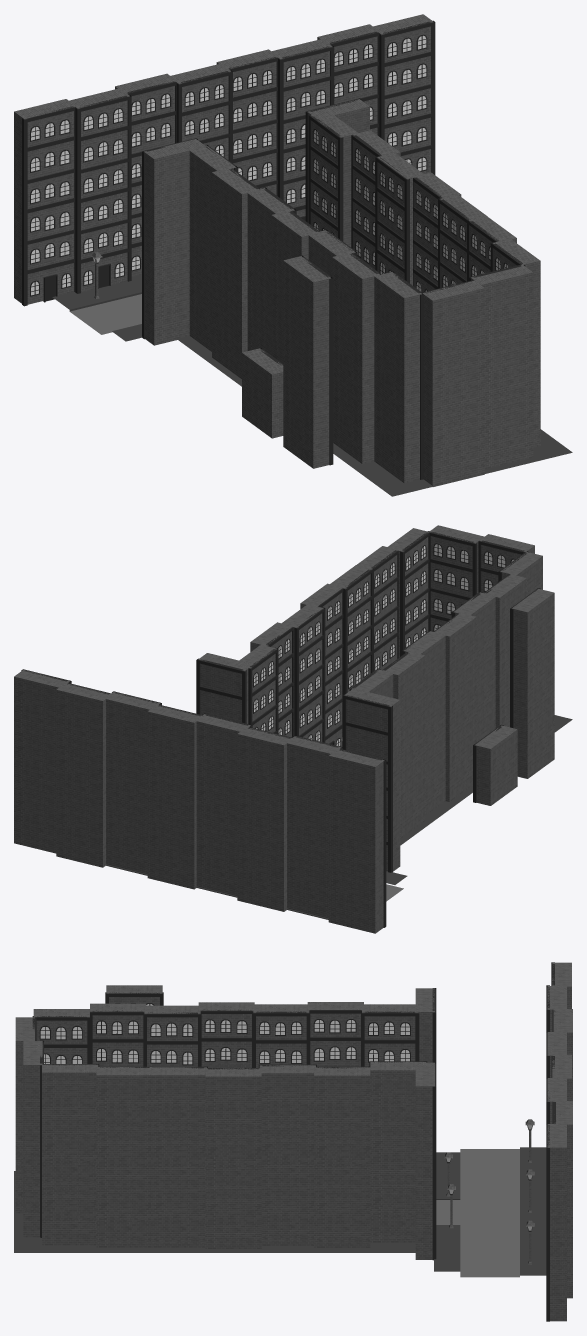
The model's file is alleyway.fbx.
The picture shows the model from 3 angles, top to bottom: view 1: azimuth 30°, elevation 25°; view 2: azimuth 150°, elevation 25°; view 3: azimuth 270°, elevation 25°; orthographic projection. The views are drawn at different scales.
Parts seen in each view (by area): view 1: Plane, Cube.210, Cube.197, Cube.201, Cube.021, Cube.189, Cube.168, Cube.378, Cube.534, Cube.399, Cube.525, Cube.007 (+49 smaller); view 2: Cube.378, Cube.534, Cube.365, Cube.504, Cube.420, Cube.369, Cube.462, Cube.537, Cube.021, Cube.525, Cube.407, Cube.491 (+53 smaller); view 3: Plane, Plane.001, Cube.231, Cube.315, Cube.273, Cube.336, Cube.294, Cube.252, Cube.260, Cube.218, Cube.323, Cube.264 (+39 smaller).
Part boxes in pixels (left/top/right/bottom): Plane: left=52, top=274, right=572, bottom=496; Cube.210: left=421, top=280, right=484, bottom=364; Cube.197: left=422, top=410, right=484, bottom=486; Cube.201: left=422, top=350, right=484, bottom=425; Cube.021: left=283, top=255, right=333, bottom=345; Cube.189: left=469, top=264, right=533, bottom=346; Cube.168: left=374, top=271, right=422, bottom=361; Cube.378: left=14, top=99, right=75, bottom=183; Cube.534: left=142, top=138, right=205, bottom=220; Cube.399: left=68, top=88, right=131, bottom=172; Cube.525: left=372, top=14, right=435, bottom=97; Cube.007: left=283, top=322, right=333, bottom=407; Cube.378: left=328, top=749, right=386, bottom=823; Cube.534: left=342, top=688, right=400, bottom=764; Cube.365: left=328, top=865, right=386, bottom=933; Cube.504: left=56, top=683, right=111, bottom=757; Cube.420: left=237, top=727, right=292, bottom=801; Cube.369: left=328, top=811, right=386, bottom=878; Cube.462: left=147, top=704, right=202, bottom=779; Cube.537: left=196, top=653, right=253, bottom=723; Cube.021: left=510, top=588, right=554, bottom=667; Cube.525: left=14, top=669, right=71, bottom=743; Cube.407: left=237, top=843, right=286, bottom=911; Cube.491: left=56, top=799, right=105, bottom=867; Plane: left=14, top=1147, right=546, bottom=1275; Plane.001: left=436, top=1149, right=519, bottom=1277; Cube.231: left=314, top=1066, right=370, bottom=1134; Cube.315: left=96, top=1066, right=151, bottom=1134; Cube.273: left=205, top=1068, right=261, bottom=1135; Cube.336: left=41, top=1064, right=99, bottom=1132; Cube.294: left=150, top=1066, right=207, bottom=1132; Cube.252: left=258, top=1064, right=316, bottom=1132; Cube.260: left=205, top=1190, right=261, bottom=1248; Cube.218: left=314, top=1189, right=370, bottom=1247; Cube.323: left=41, top=1179, right=96, bottom=1245; Cube.264: left=205, top=1134, right=261, bottom=1193.
Size of the model in its own units: 5923 by 2596 by 7535.
Materials: 5 (1 with a texture image).
